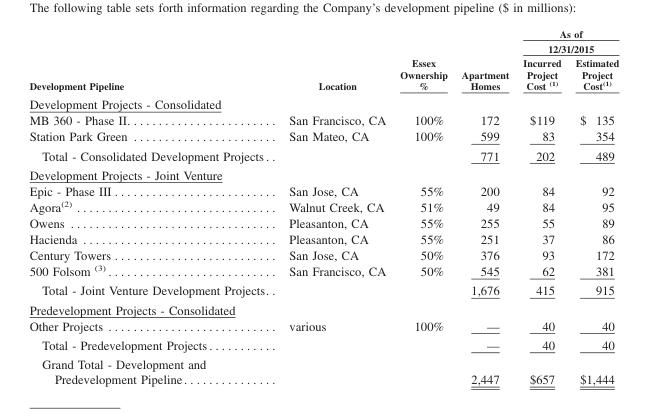table: (28, 28, 618, 386)
table column: (28, 28, 278, 386), (278, 28, 392, 386), (453, 28, 515, 386), (392, 28, 453, 386), (515, 28, 567, 386), (567, 28, 618, 386)
table column header: (28, 28, 618, 94)
table projected row header: (28, 94, 618, 112), (28, 165, 618, 183), (28, 300, 618, 318)
table row: (28, 56, 618, 94), (28, 355, 618, 386), (28, 28, 618, 56), (28, 335, 618, 355), (28, 146, 618, 165), (28, 262, 618, 281), (28, 281, 618, 300), (28, 94, 618, 112), (28, 165, 618, 183), (28, 300, 618, 318), (28, 112, 618, 129), (28, 129, 618, 146), (28, 198, 618, 215), (28, 318, 618, 335), (28, 215, 618, 231), (28, 231, 618, 247), (28, 183, 618, 198), (28, 247, 618, 262)
table spanning cell: (28, 28, 278, 94), (278, 28, 392, 94), (453, 28, 515, 94), (392, 28, 453, 94), (515, 28, 618, 56)
